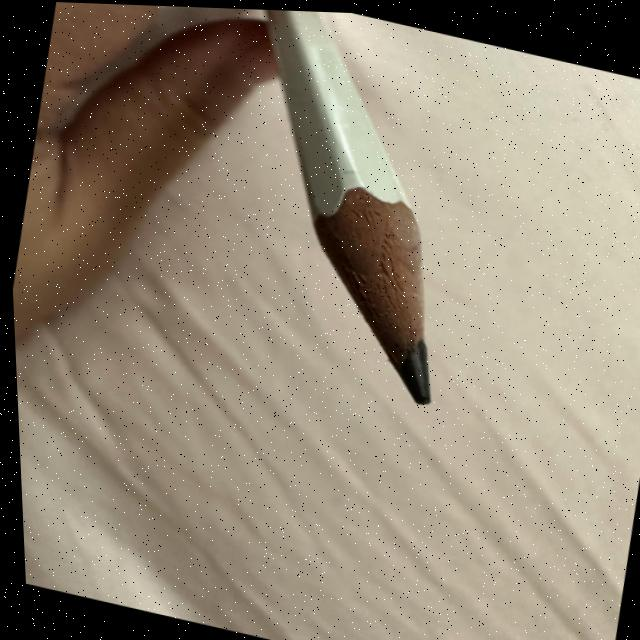pencil: (257, 7, 429, 413)
